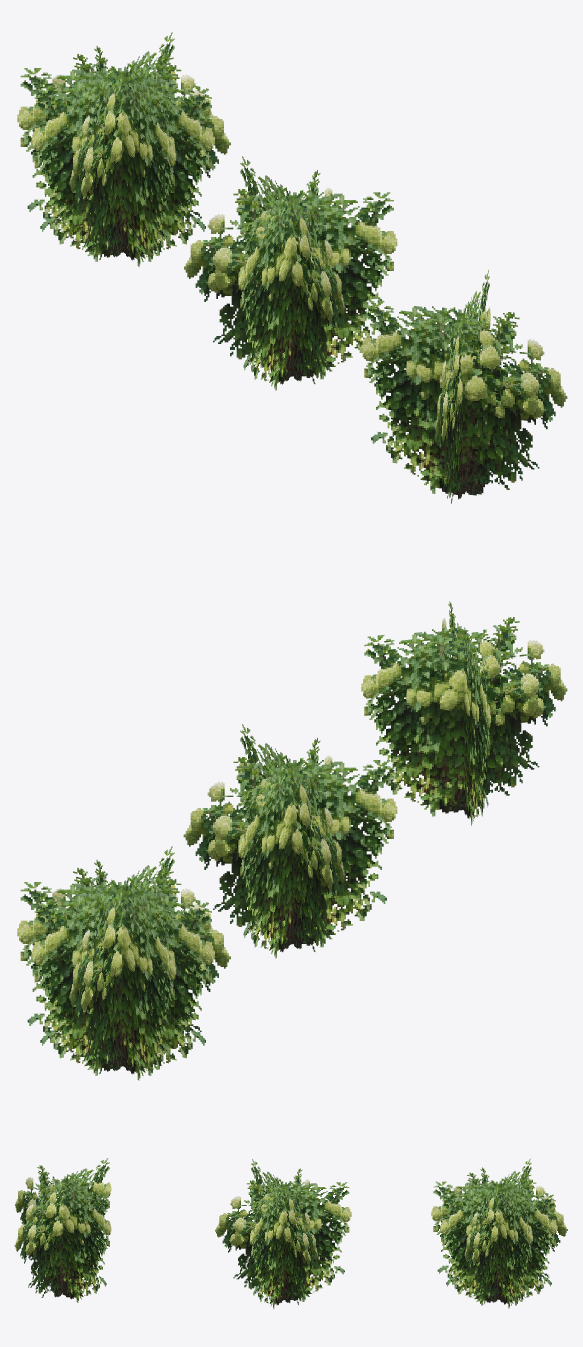
File: psx_style_bush.glb
3 views of the same model, one above another, from view 1: azimuth 30°, elevation 25°; view 2: azimuth 150°, elevation 25°; view 3: azimuth 270°, elevation 25° (orthographic). The views are drawn at different scales.
Visible parts, largest first — view 1: BIG PLANT_30, MEDIUM PLANT_31, SMOLL PLANT_32; view 2: BIG PLANT_30, MEDIUM PLANT_31, SMOLL PLANT_32; view 3: BIG PLANT_30, MEDIUM PLANT_31, SMOLL PLANT_32.
Part boxes in pixels (x1,y1,x2,y2): BIG PLANT_30: [17, 32, 230, 266]; MEDIUM PLANT_31: [184, 156, 397, 390]; SMOLL PLANT_32: [361, 270, 567, 503]; BIG PLANT_30: [17, 846, 230, 1080]; MEDIUM PLANT_31: [183, 724, 397, 958]; SMOLL PLANT_32: [361, 601, 567, 825]; BIG PLANT_30: [431, 1158, 567, 1308]; MEDIUM PLANT_31: [215, 1159, 351, 1309]; SMOLL PLANT_32: [14, 1158, 111, 1302].
Size of the model in its own units: 0.7967 by 0.8299 by 3.16.
Materials: 1 (1 with a texture image).
